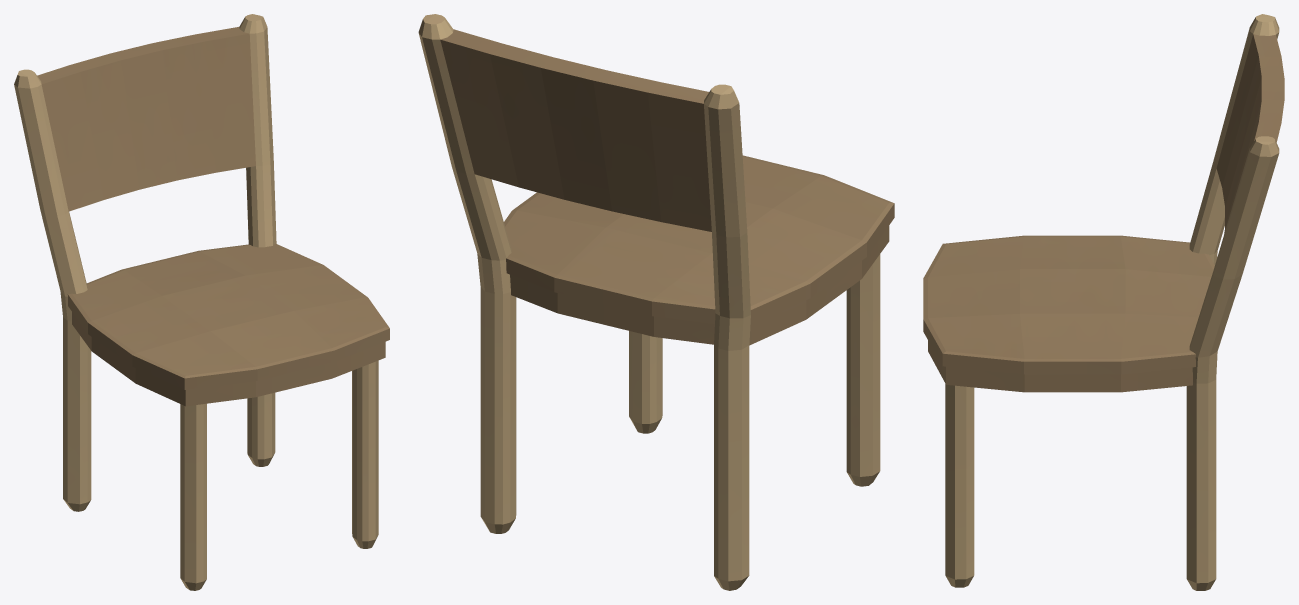
File: chair.glb
3 renders of one model, left to right at view 1: azimuth 30°, elevation 25°; view 2: azimuth 150°, elevation 25°; view 3: azimuth 270°, elevation 25°, orthographic. The views are drawn at different scales.
Parts seen in each view (by area): view 1: chair_1; view 2: chair_1; view 3: chair_1.
Part boxes in pixels (x1,y1,x2,y2): chair_1: (14, 14, 389, 590); chair_1: (418, 14, 894, 590); chair_1: (923, 14, 1284, 590).
Bounding box in the file's own units: 0.4699 × 0.7549 × 0.5374.
Materials: 1 (1 with a texture image).
